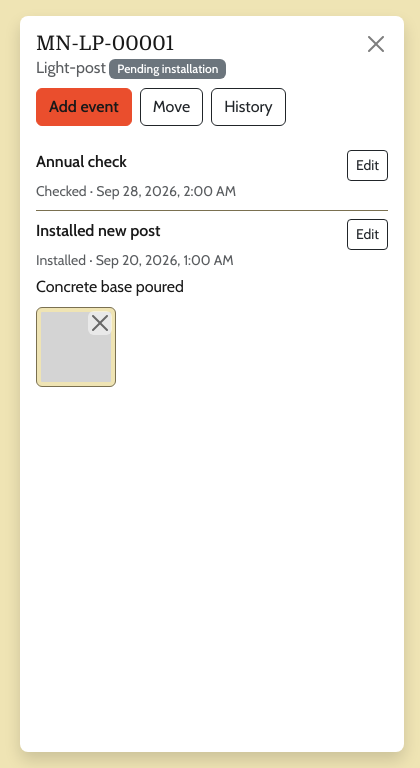
shows why the API refused an event and keeps the form open
The image size is (420, 768).
Check: the text "Annual check" is shown, box x1=36 y1=150 x2=127 y2=181
Click the button "Add event". click: (84, 107)
box: x1=36 y1=88 x2=132 y2=126
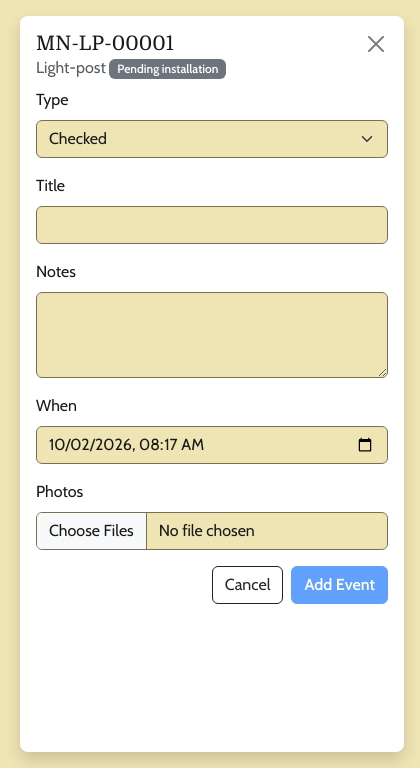
Type "Looked at it" into the field labelled "Title". click: (212, 225)
box: x1=36 y1=206 x2=388 y2=244
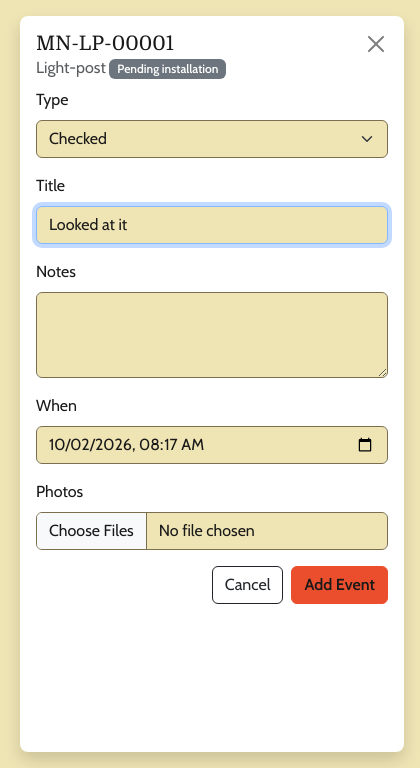
Click the button "Add Event". click: (340, 585)
box: x1=291 y1=566 x2=388 y2=604
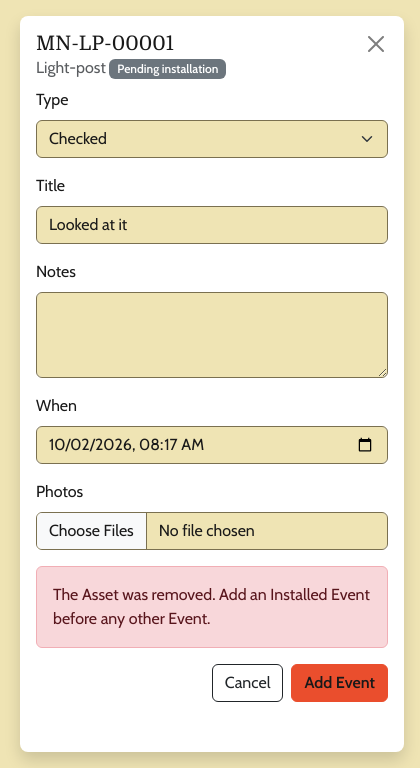
Check: the message shows "The Asset was removed.", box x1=53 y1=585 x2=370 y2=628
